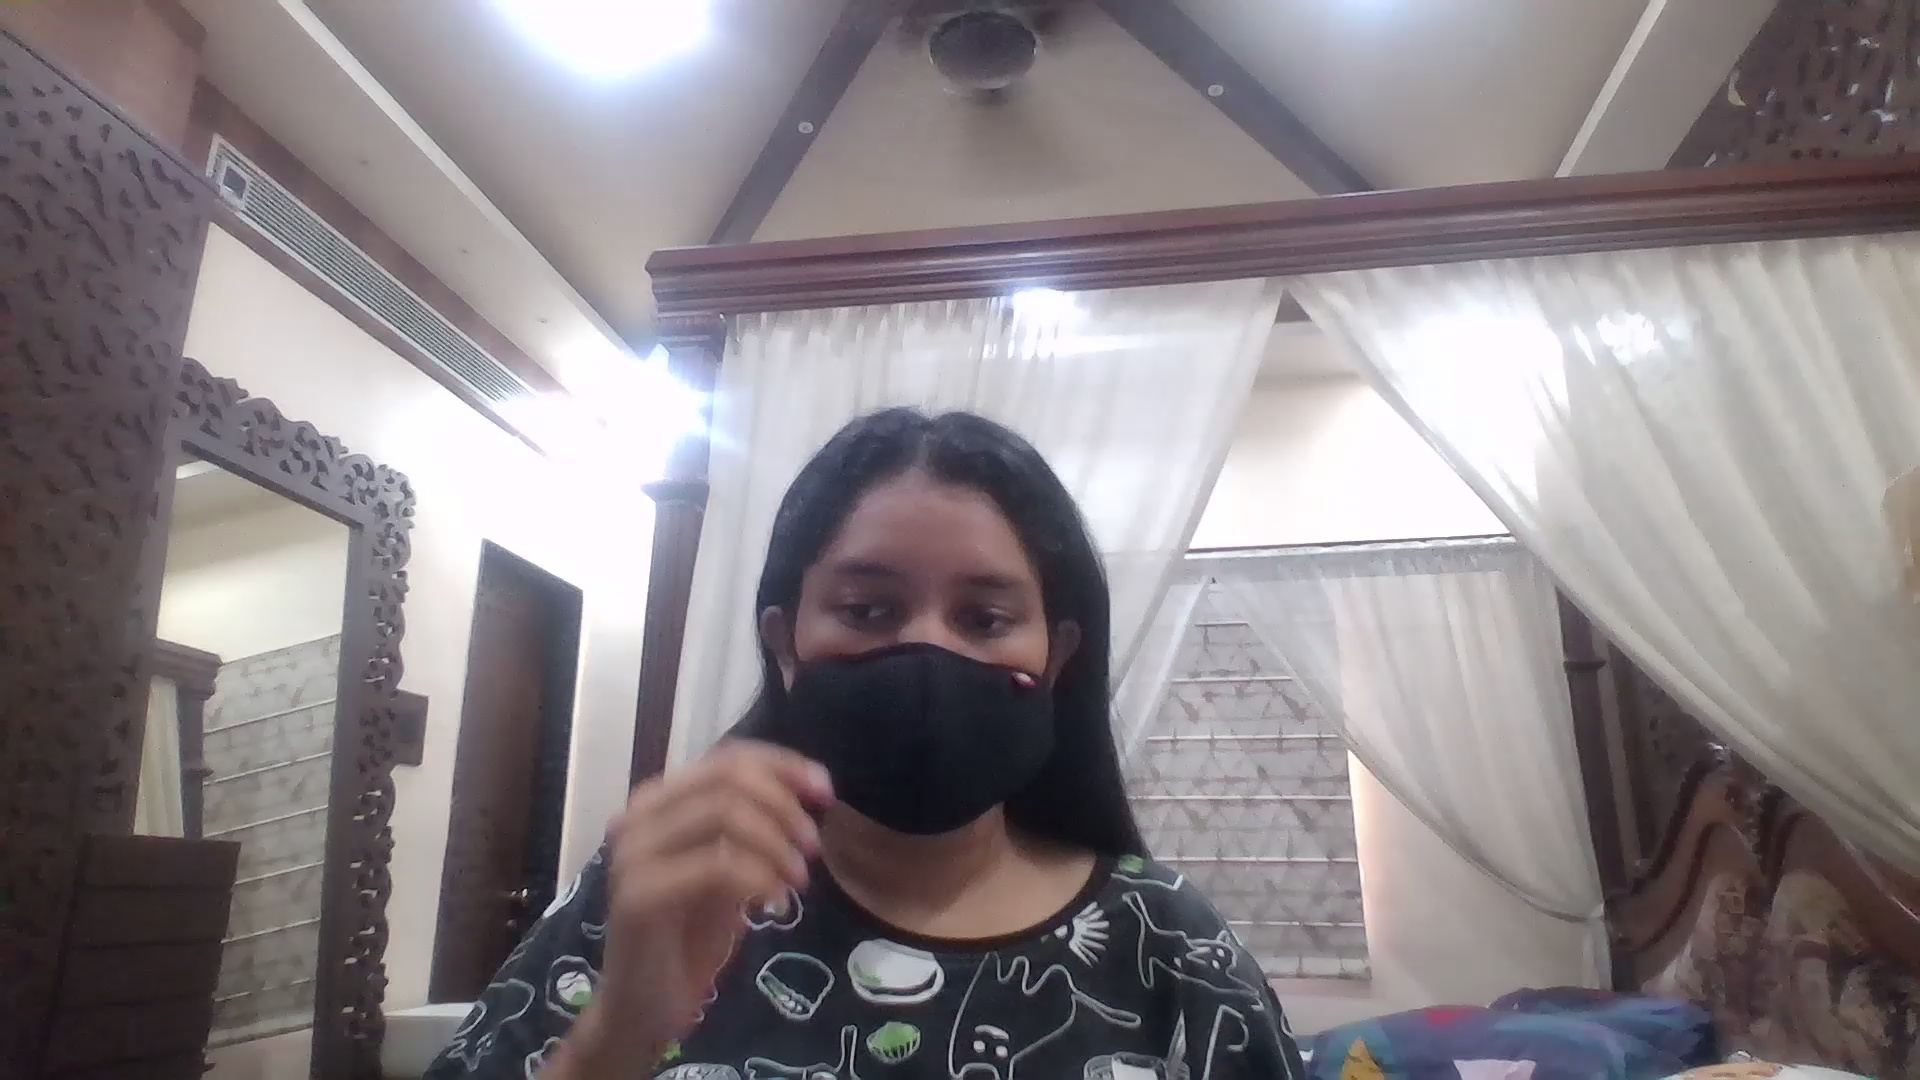Mask: (782, 652, 1048, 833)
